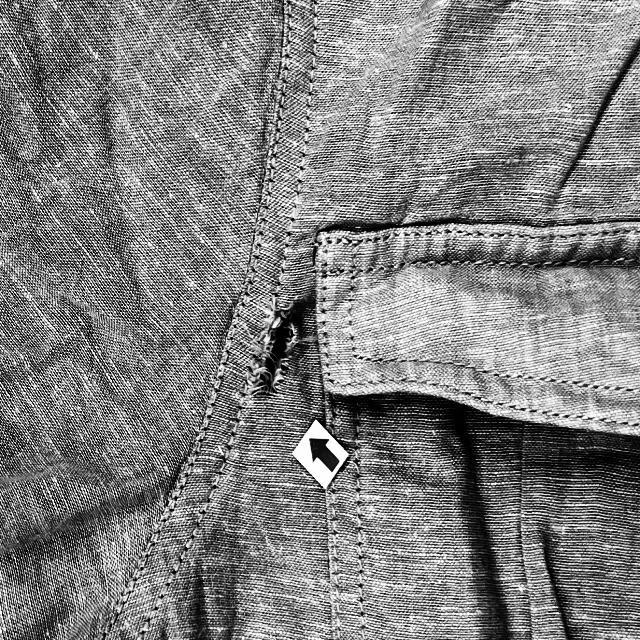Hole: (249, 300, 301, 402)
